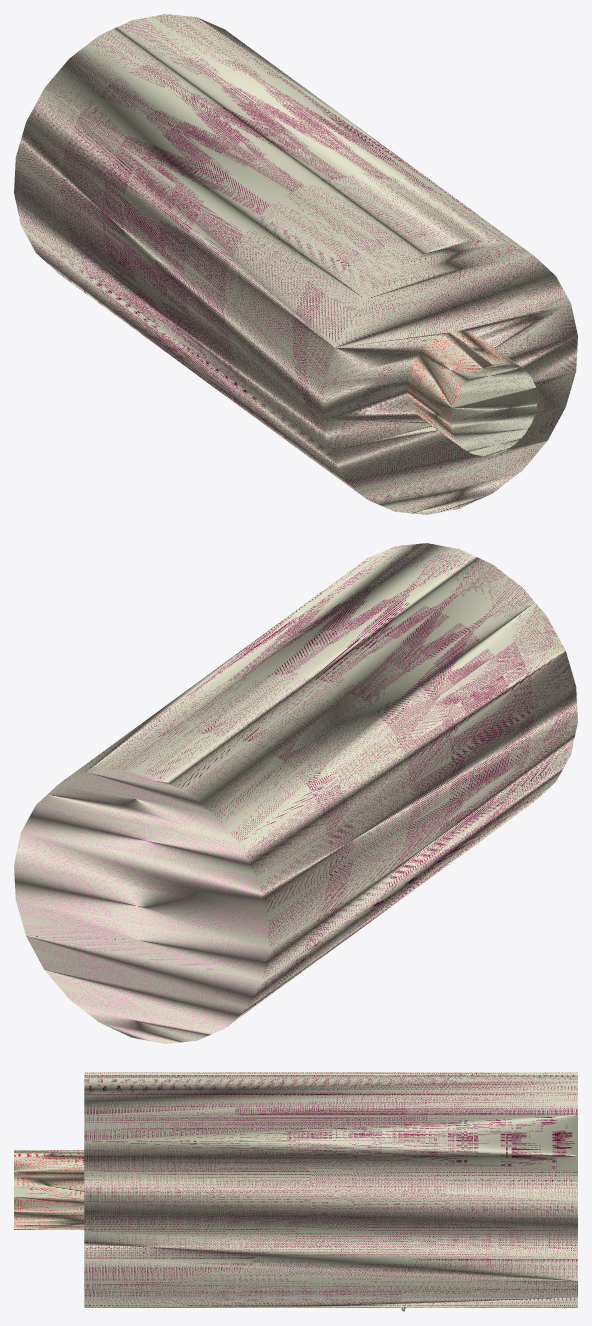
Rendered from model_align.obj.
The picture shows the model from 3 angles, top to bottom: view 1: azimuth 30°, elevation 25°; view 2: azimuth 150°, elevation 25°; view 3: azimuth 270°, elevation 25°; orthographic projection. The views are drawn at different scales.
Bounding box in the file's own units: 0.0748 × 0.0761 × 0.1788.
